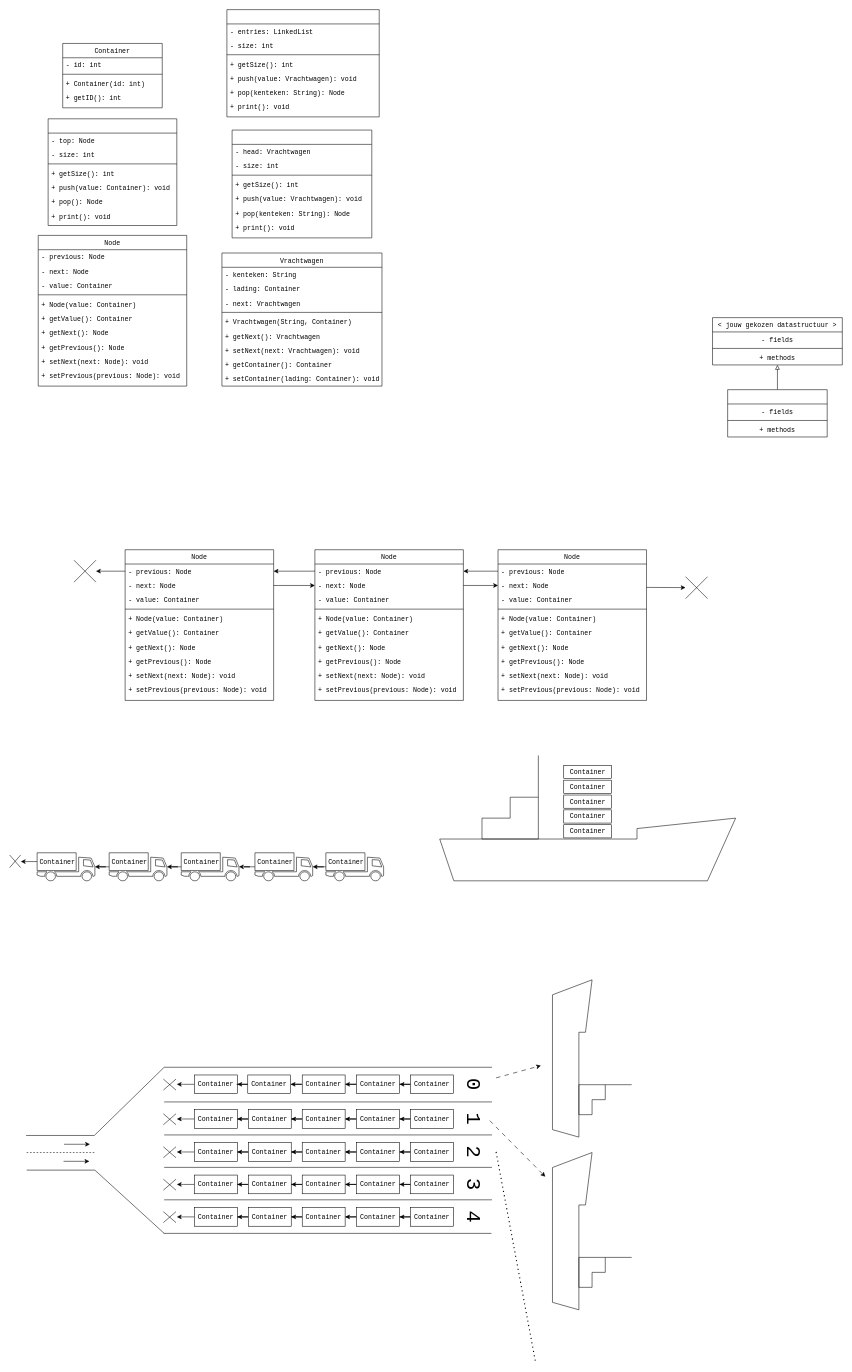
This 852x1372 diagram has some shape labels left out. The box of each missing label's shape, as (x1, y1, x2, y2) in pixels:
Kade: (727, 389, 827, 437)
LinkedList: (232, 130, 372, 238)
Map: (226, 9, 379, 117)
Stack: (48, 118, 177, 226)
